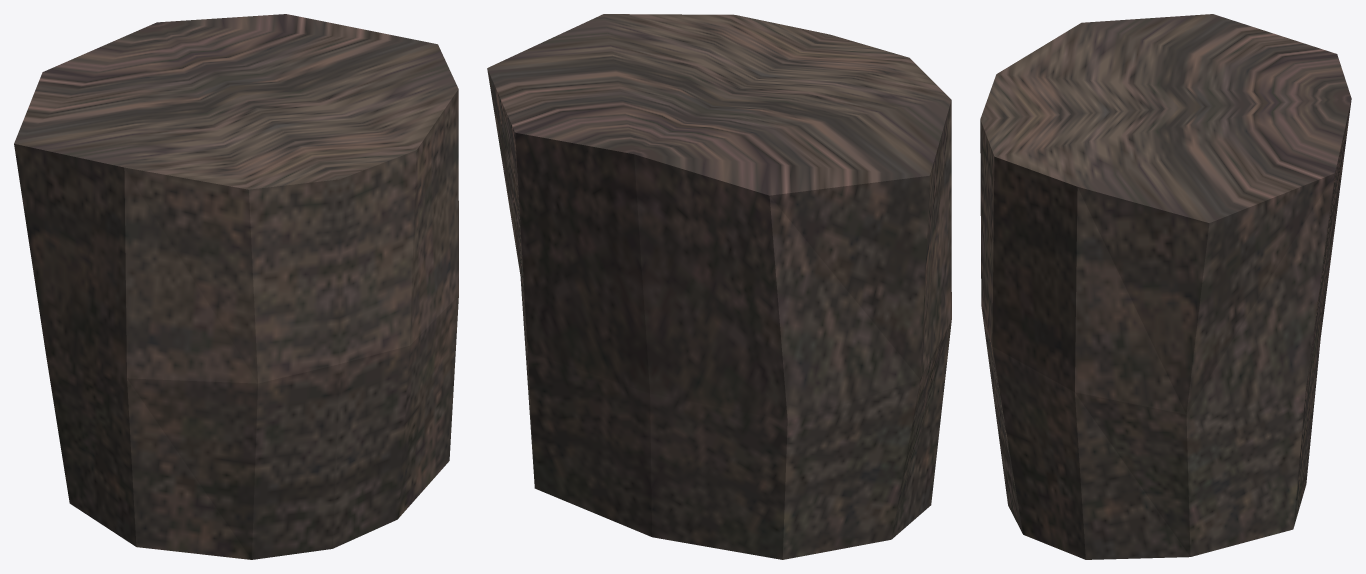
File: trompa2.obj
3 renders of one model, left to right at view 1: azimuth 30°, elevation 25°; view 2: azimuth 150°, elevation 25°; view 3: azimuth 270°, elevation 25°, orthographic. The views are drawn at different scales.
Parts seen in each view (by area): view 1: pasted__polySurface3 pasted__polySurface2 pasted__Elephant group; view 2: pasted__polySurface3 pasted__polySurface2 pasted__Elephant group; view 3: pasted__polySurface3 pasted__polySurface2 pasted__Elephant group.
Boxes of the visible parts, x1=… form: pasted__polySurface3 pasted__polySurface2 pasted__Elephant group: x1=14, y1=14, x2=458, y2=559; pasted__polySurface3 pasted__polySurface2 pasted__Elephant group: x1=487, y1=14, x2=951, y2=559; pasted__polySurface3 pasted__polySurface2 pasted__Elephant group: x1=980, y1=14, x2=1351, y2=559.
Bounding box in the file's own units: 2.03 × 1.85 × 1.54.
Materials: 1 (1 with a texture image).
